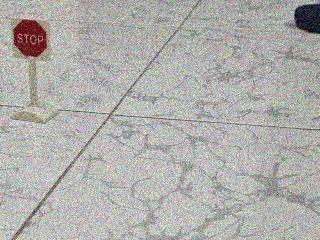stop: (4, 14, 58, 69)
